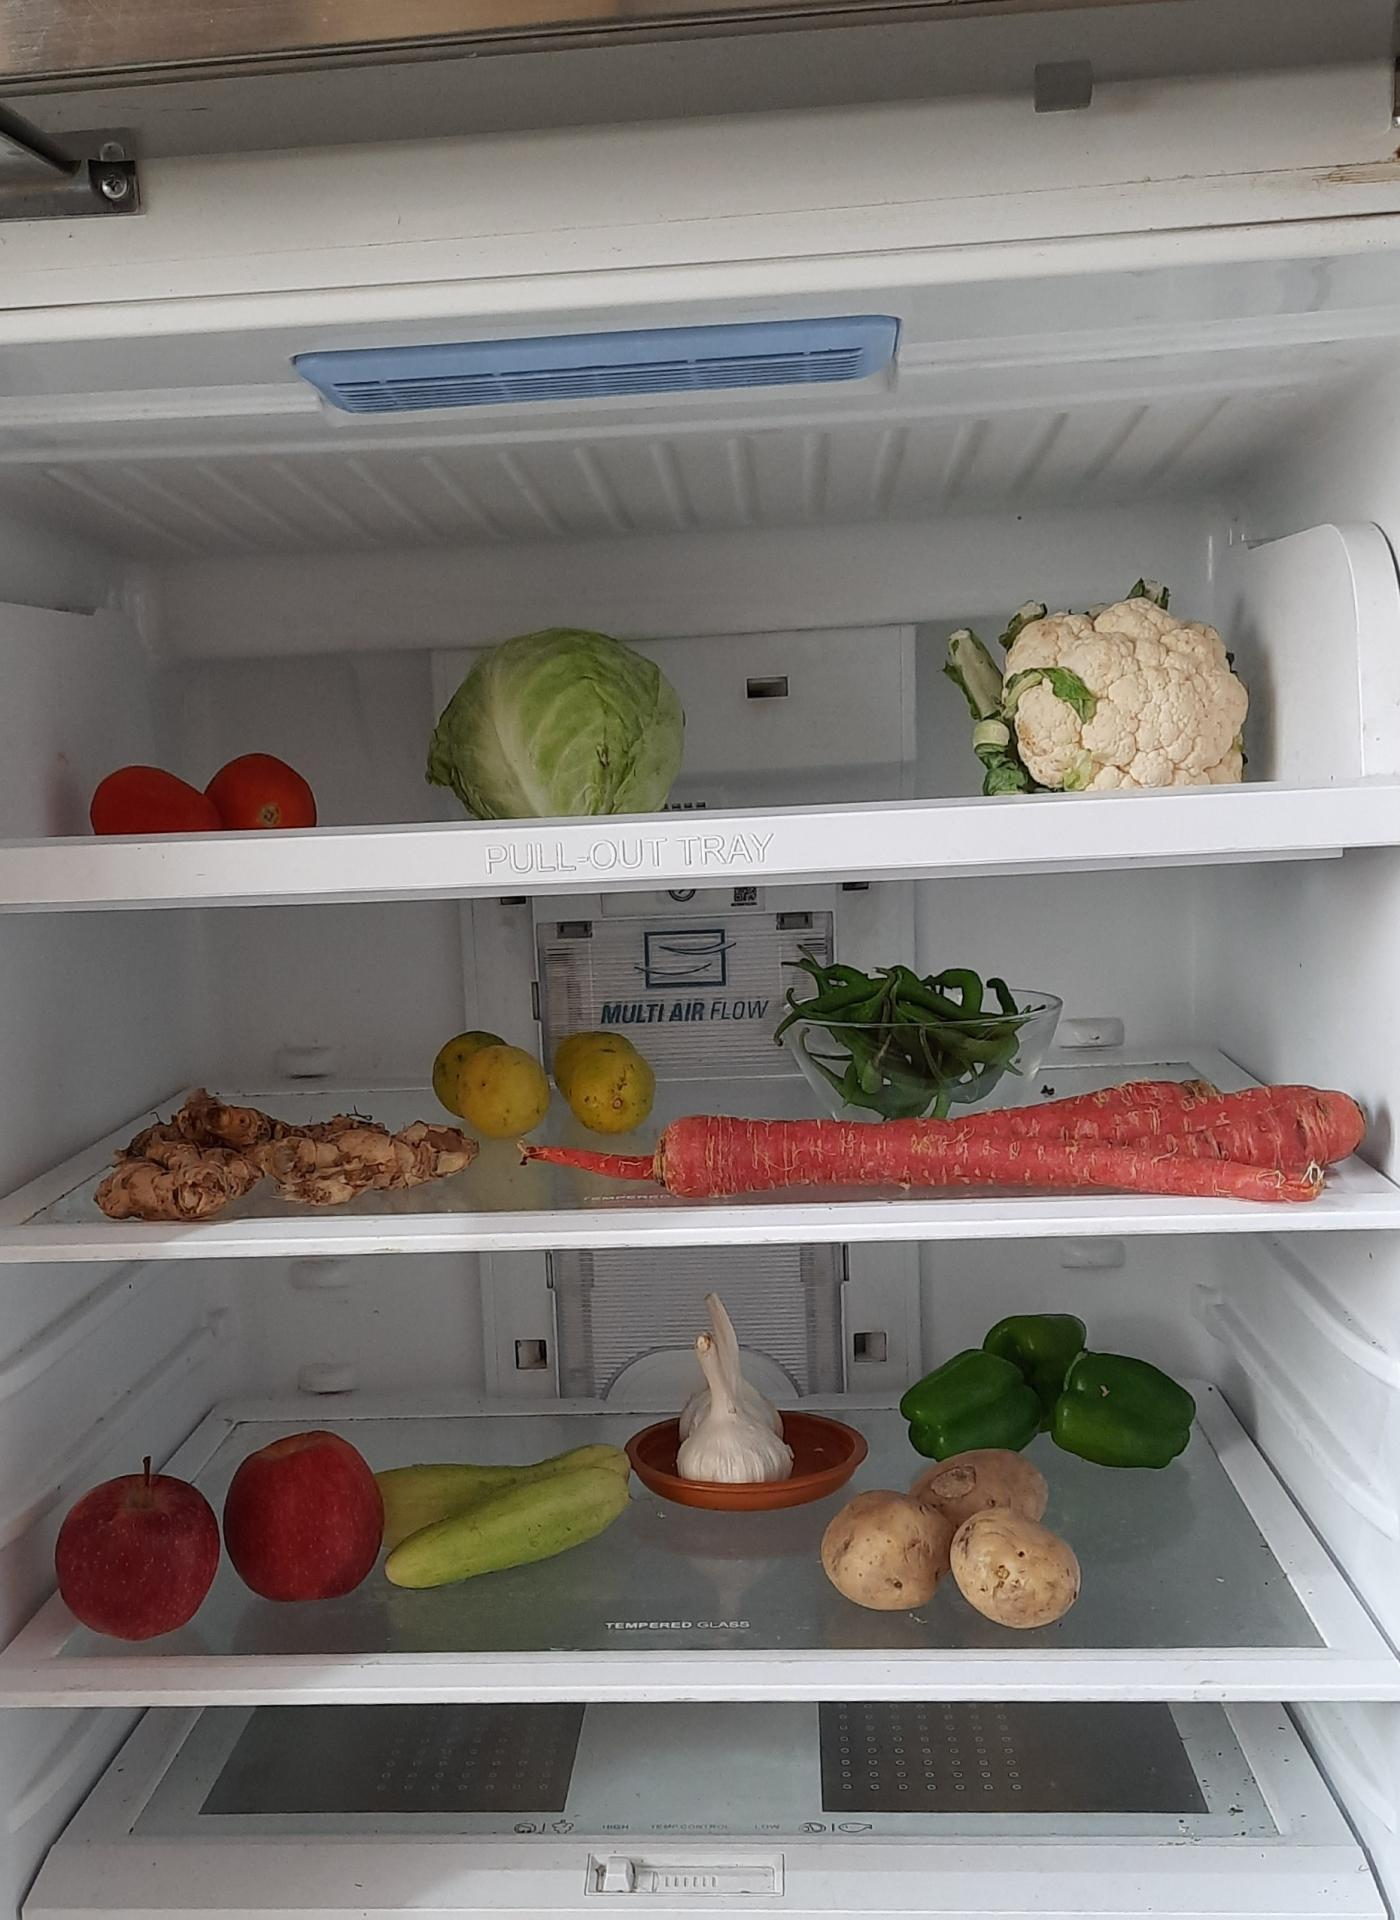apple: (58, 1430, 395, 1638)
cabbage: (428, 628, 689, 818)
capsicum: (890, 1304, 1187, 1465)
carrots: (462, 1108, 1369, 1258)
cauliflower: (951, 583, 1252, 796)
chillies: (789, 960, 1024, 1094)
cucumber: (376, 1452, 632, 1595)
garlic: (668, 1283, 796, 1486)
ginger: (88, 1108, 483, 1225)
lemon: (432, 1020, 555, 1140)
potato: (822, 1452, 1085, 1632)
tomato: (88, 750, 312, 838)
